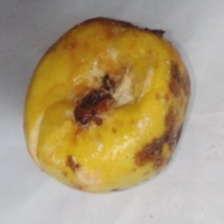guava: (4, 2, 194, 185)
